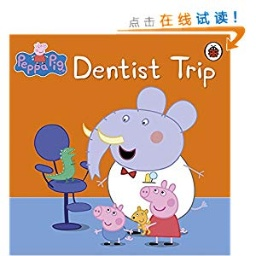Peppa: (138, 179, 189, 249)
